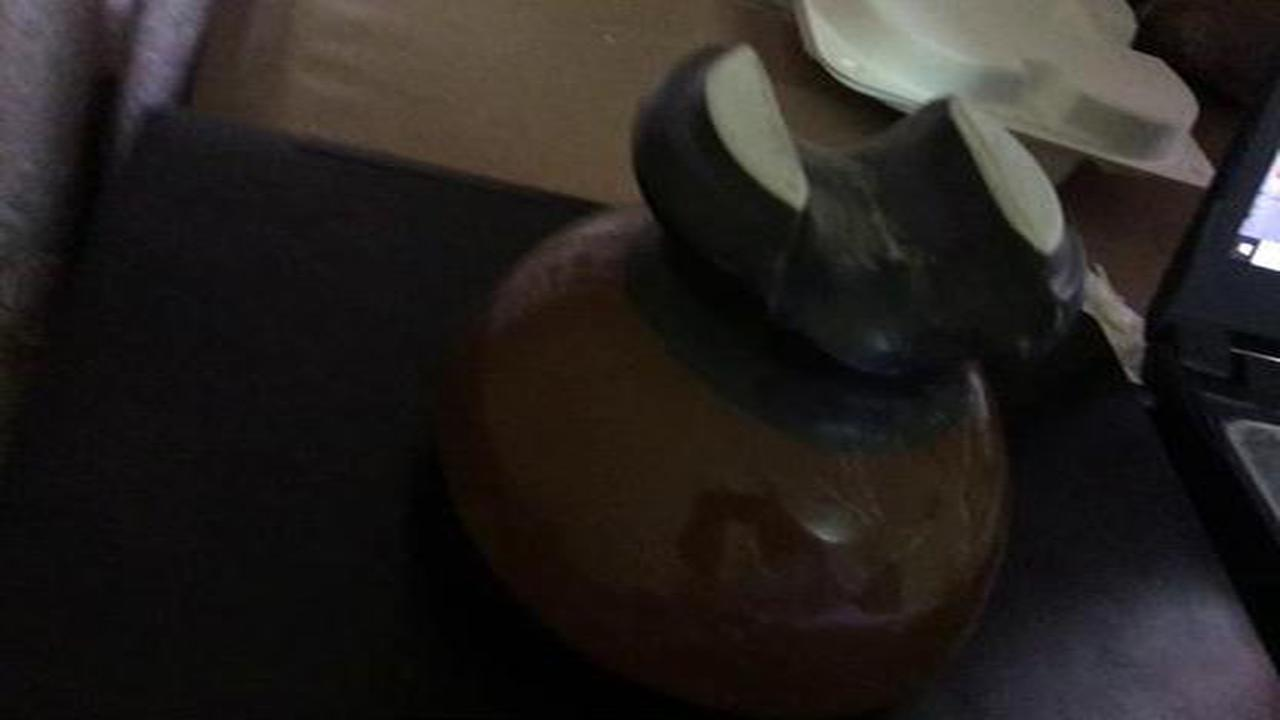insulator_pin: (419, 30, 1108, 708)
